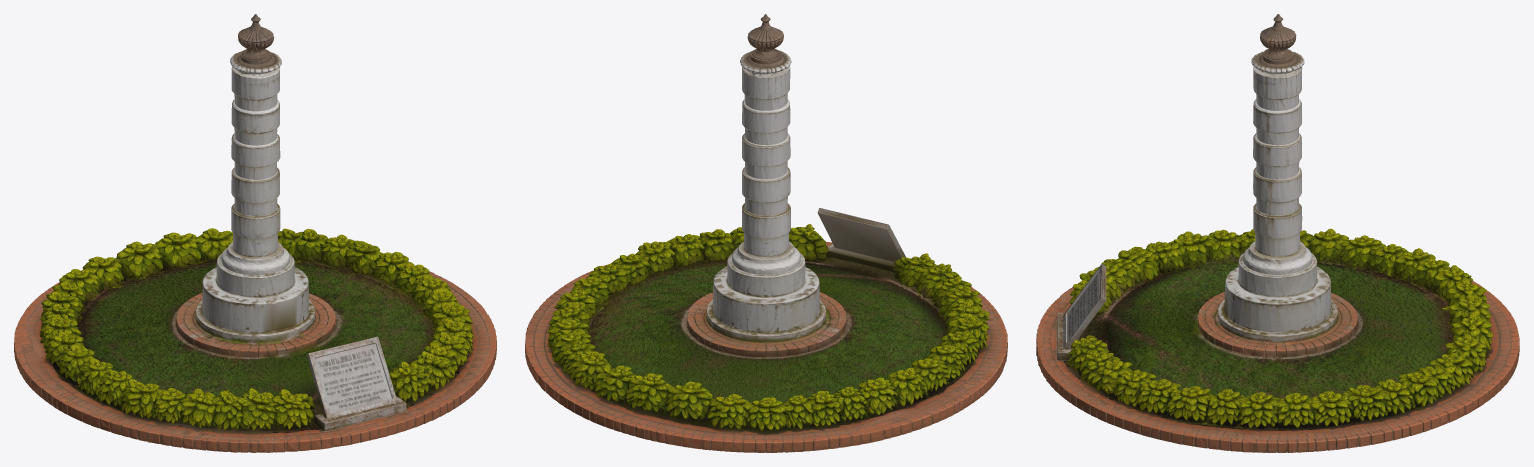
The model's file is columna.glb.
The picture shows the model from 3 angles, left to right: view 1: azimuth 30°, elevation 25°; view 2: azimuth 150°, elevation 25°; view 3: azimuth 270°, elevation 25°; orthographic projection.
Visible parts, largest first — view 1: world; view 2: world; view 3: world.
Boxes of the visible parts, left/top/right/bottom form: world: left=14, top=14, right=496, bottom=452; world: left=525, top=14, right=1007, bottom=452; world: left=1036, top=14, right=1519, bottom=452.
Size of the model in its own units: 0.9997 by 0.771 by 1.
Materials: 1 (1 with a texture image).
